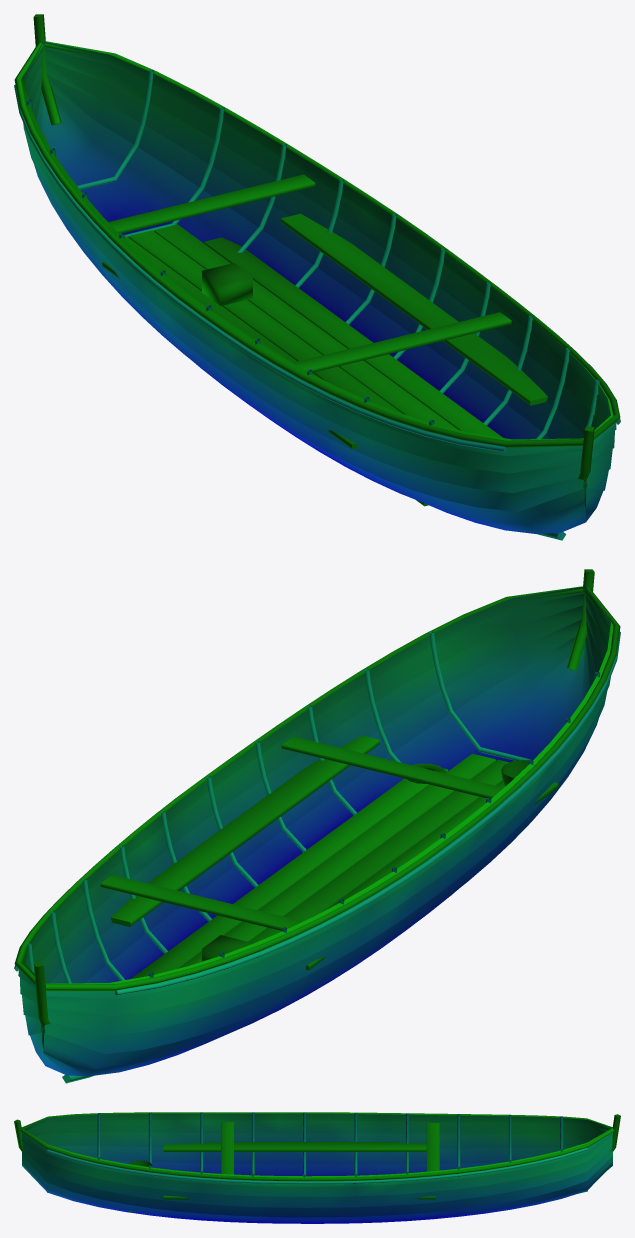
Rendered from hull_cabin.glb.
3 views of the same model, one above another, from view 1: azimuth 30°, elevation 25°; view 2: azimuth 150°, elevation 25°; view 3: azimuth 270°, elevation 25° (orthographic). The views are drawn at different scales.
Parts seen in each view (by area): view 1: hull_cabin; view 2: hull_cabin; view 3: hull_cabin.
Boxes of the visible parts, left/top/right/bottom form: hull_cabin: left=14, top=14, right=620, bottom=540; hull_cabin: left=14, top=569, right=620, bottom=1083; hull_cabin: left=14, top=1112, right=620, bottom=1223.
Size of what is drawn, in the model's own units: 2.7 by 1.89 by 10.27.
